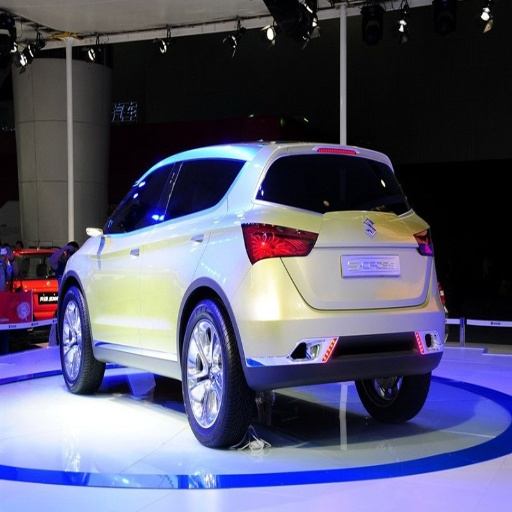back_bumper: (226, 259, 445, 395)
back_glass: (259, 157, 407, 213)
back_left_door: (140, 165, 208, 351)
tailgate: (284, 210, 420, 307)
trunk: (364, 216, 427, 309)
